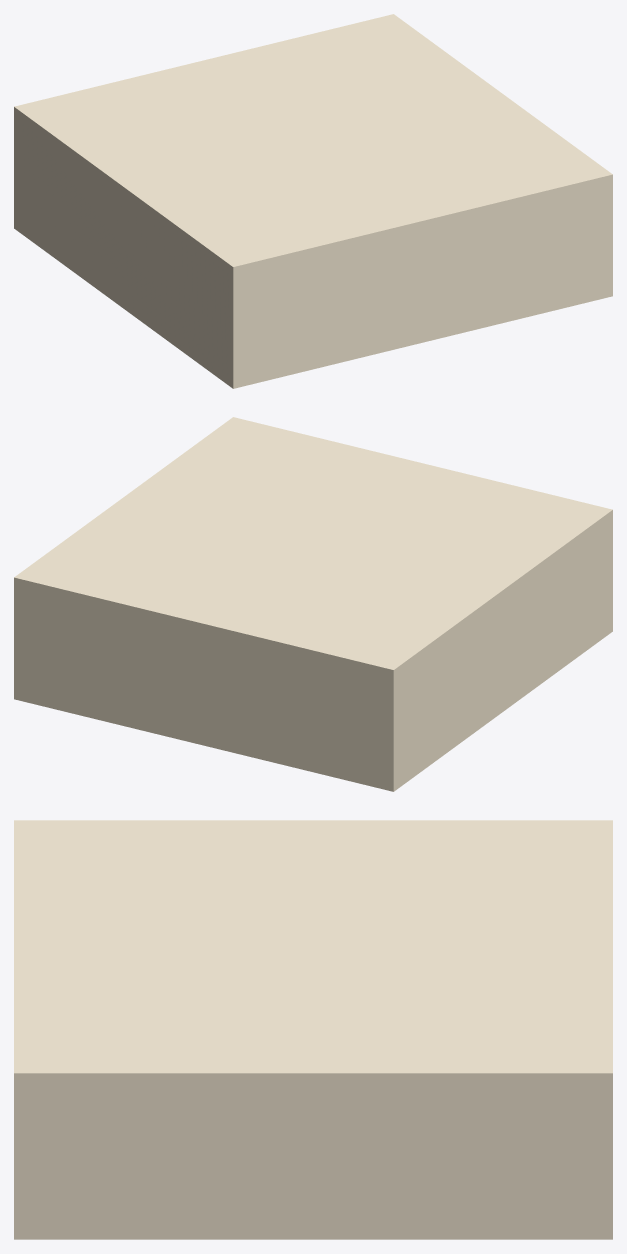
File: Luz.fbx
The picture shows the model from 3 angles, top to bottom: view 1: azimuth 30°, elevation 25°; view 2: azimuth 150°, elevation 25°; view 3: azimuth 270°, elevation 25°; orthographic projection. The views are drawn at different scales.
Visible parts, largest first — view 1: Cube.002; view 2: Cube.002; view 3: Cube.002.
Boxes of the visible parts, <box> form: Cube.002: <box>14,14,612,388</box>; Cube.002: <box>14,417,612,791</box>; Cube.002: <box>14,820,612,1239</box>.
Bounding box in the file's own units: 620 × 190 × 620.
